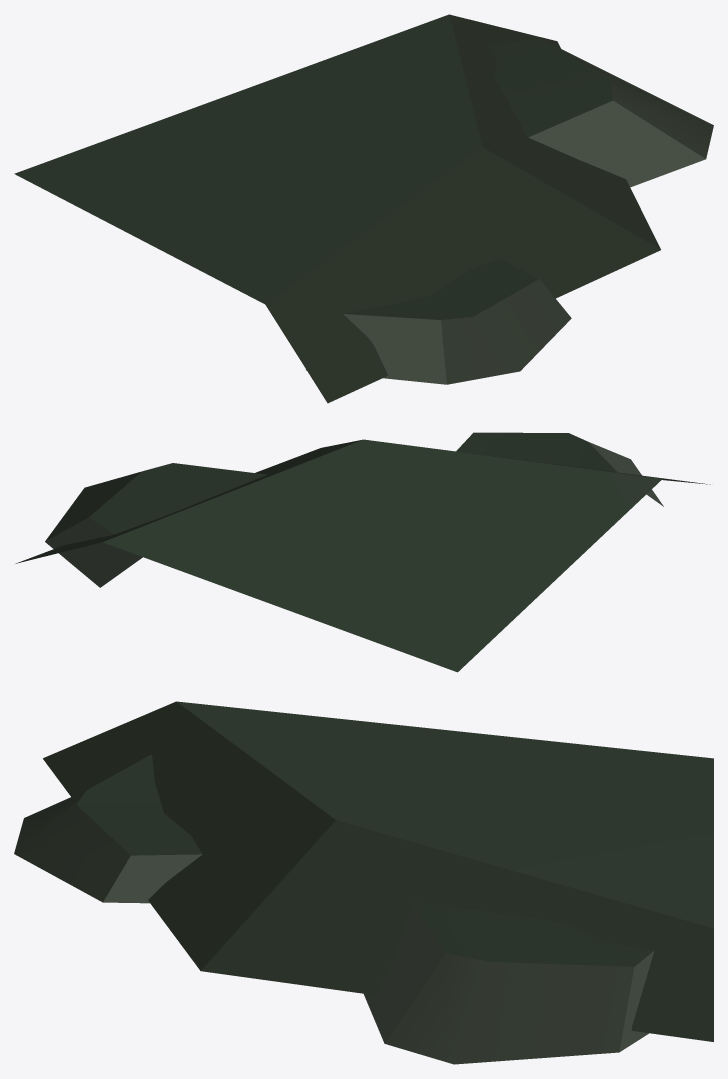
Rendered from SF_Env_SwampEdge_Corner_02.glb.
The picture shows the model from 3 angles, top to bottom: view 1: azimuth 30°, elevation 25°; view 2: azimuth 150°, elevation 25°; view 3: azimuth 270°, elevation 25°; orthographic projection. The views are drawn at different scales.
Visible parts, largest first — view 1: SF_Env_SwampEdge_Corner_02; view 2: SF_Env_SwampEdge_Corner_02; view 3: SF_Env_SwampEdge_Corner_02.
Part boxes in pixels (x1,y1,x2,y2): SF_Env_SwampEdge_Corner_02: [14, 14, 713, 403]; SF_Env_SwampEdge_Corner_02: [15, 432, 710, 672]; SF_Env_SwampEdge_Corner_02: [14, 701, 713, 1064].
Bounding box in the file's own units: 0.097 × 0.0154 × 0.095.
Materials: 1 (1 with a texture image).
